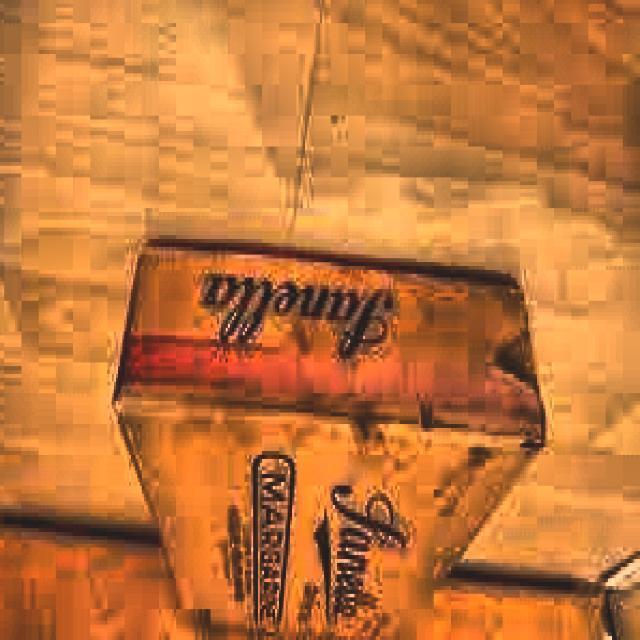cardboard: (111, 243, 550, 640)
